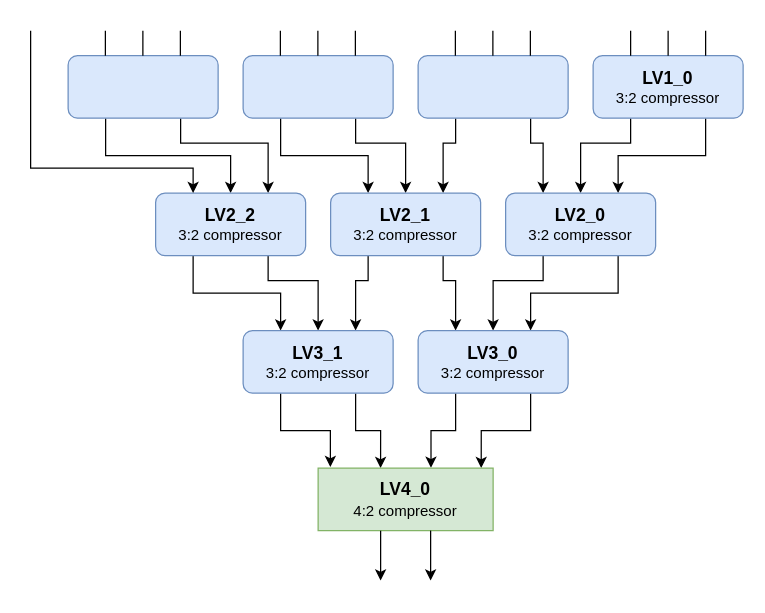
Some shapes in this 765 by 613 pixel diagram are drawn without their labels. Each missing label, with the centre of its shape:
"LV1_1 3:2 compressor" belongs at point (492, 86).
"LV1_2 3:2 compressor" belongs at point (317, 86).
"LV1_3 3:2 compressor" belongs at point (142, 86).
